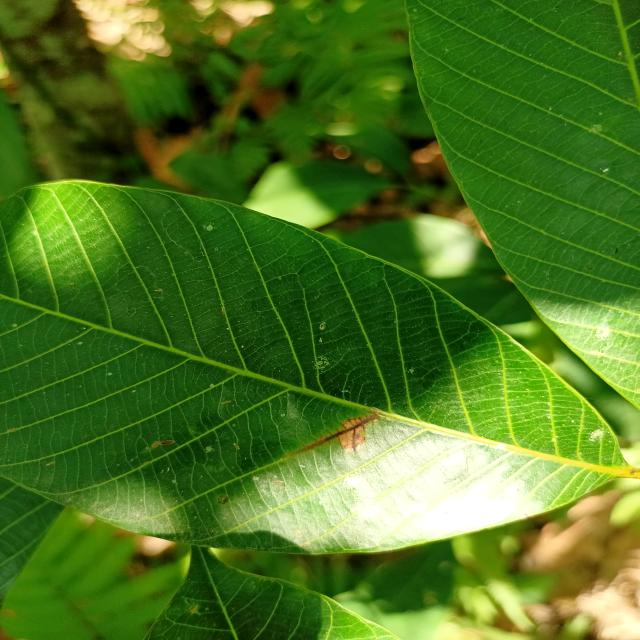Corynespora: (294, 414, 378, 456)
